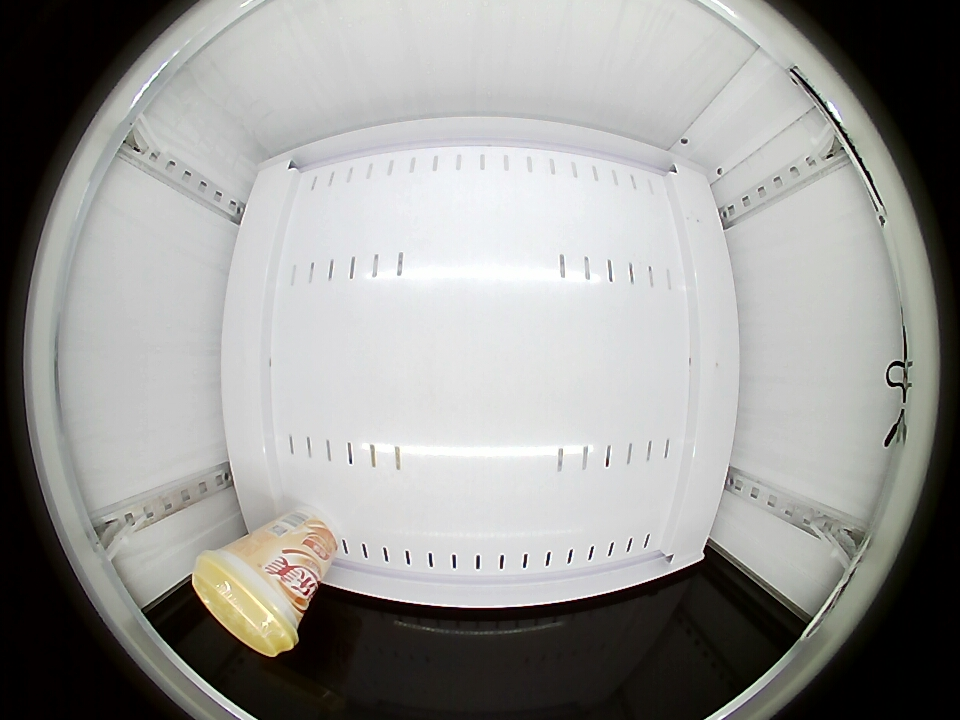youlemei: (192, 544, 306, 658)
